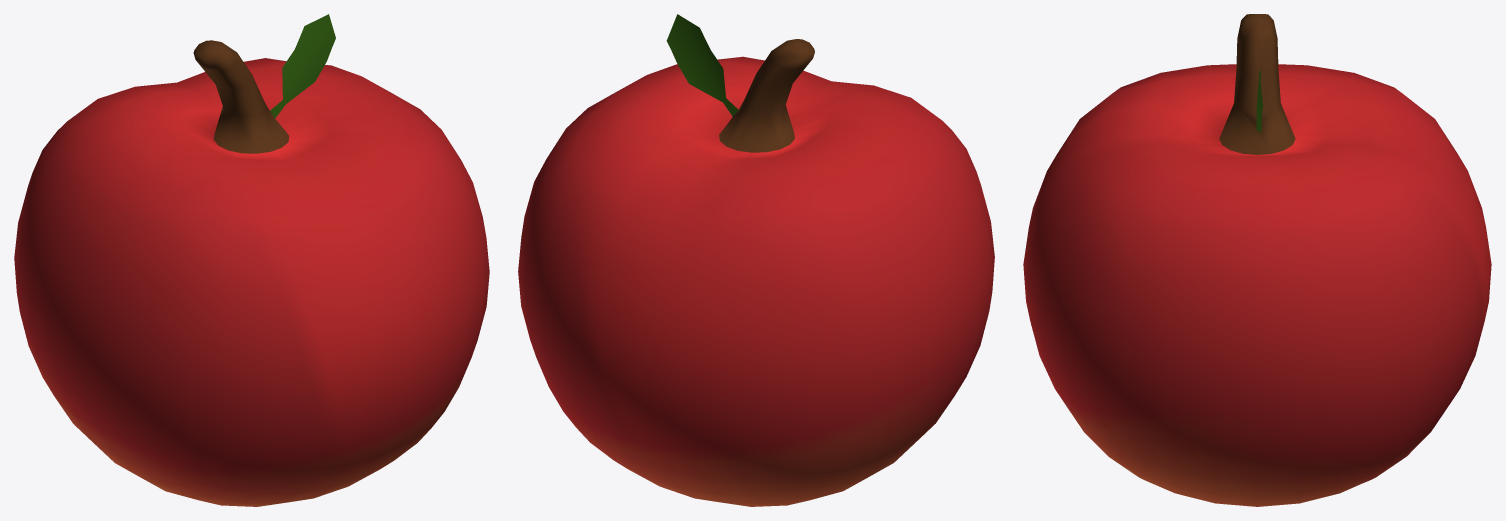
Rendered from SM_fruit.fbx.
The picture shows the model from 3 angles, left to right: view 1: azimuth 30°, elevation 25°; view 2: azimuth 150°, elevation 25°; view 3: azimuth 270°, elevation 25°; orthographic projection.
Visible parts, largest first — view 1: Fruit; view 2: Fruit; view 3: Fruit.
Part boxes in pixels (x1,y1,x2,y2): Fruit: (14,14,489,506); Fruit: (518,14,994,506); Fruit: (1023,14,1491,506).
Bounding box in the file's own units: 1.73 × 1.73 × 1.84.
Materials: 2 (1 with a texture image).
